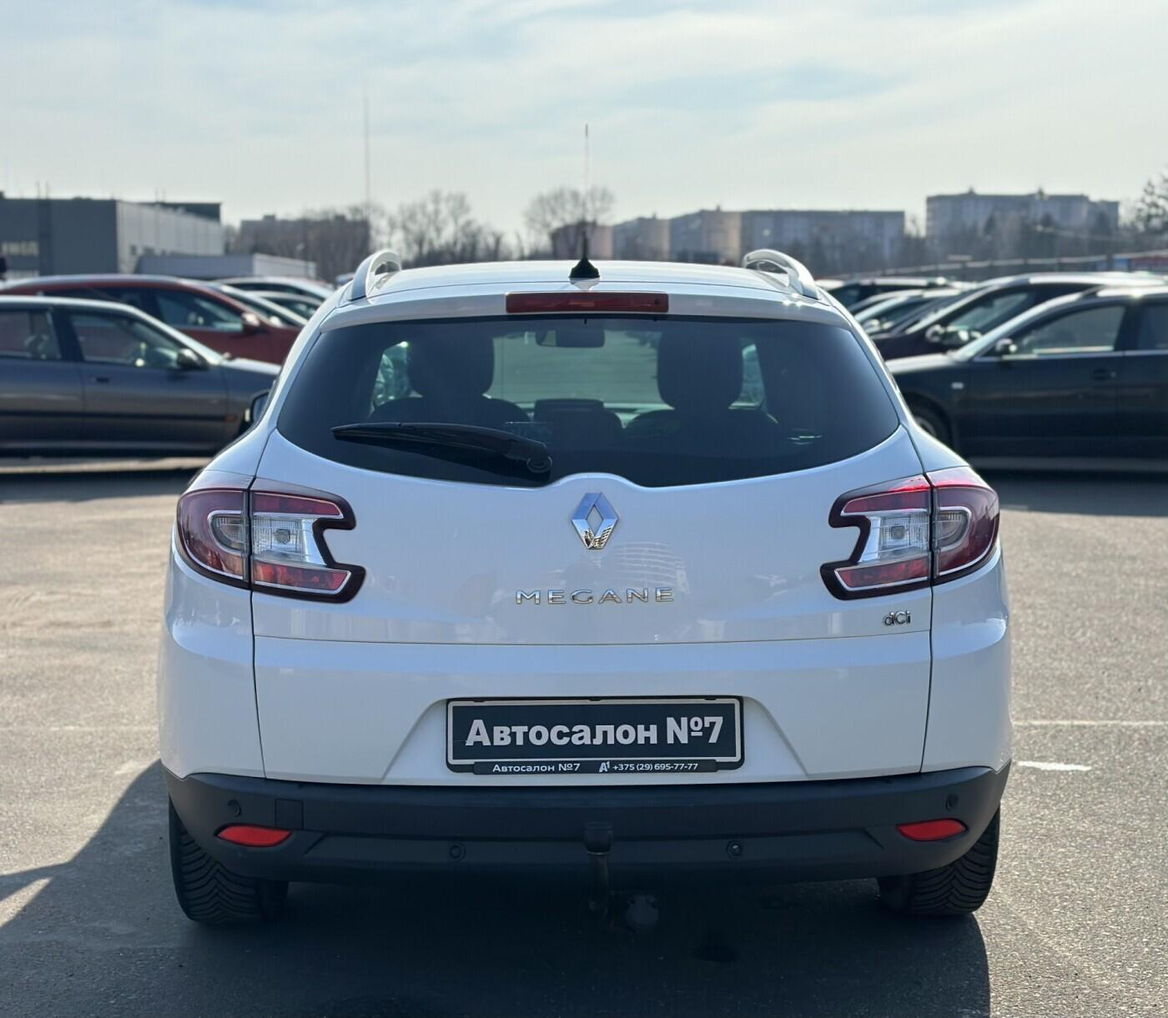Megane_2014-2016: (139, 240, 1016, 909)
